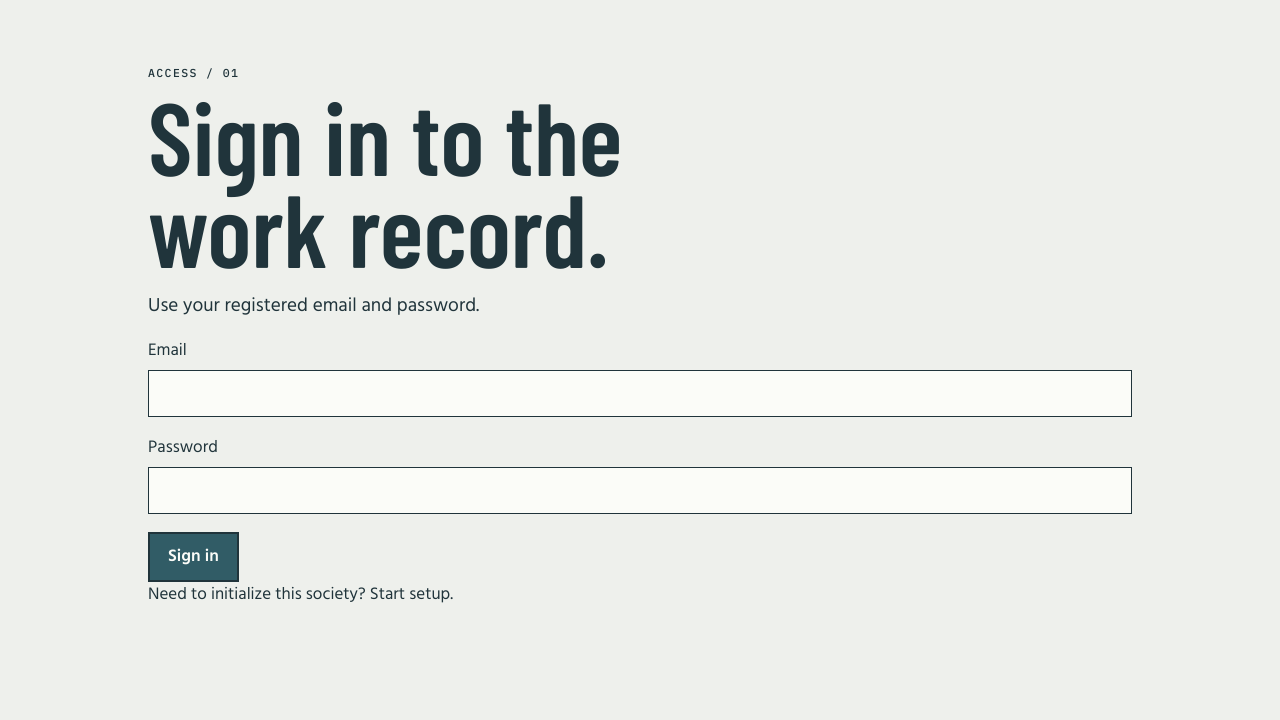
Test case: auth routes › maps login field errors and focuses first invalid field
Type "person@example.com" into the field labelled "Email" at (640, 394), box 148,370 -> 1132,417
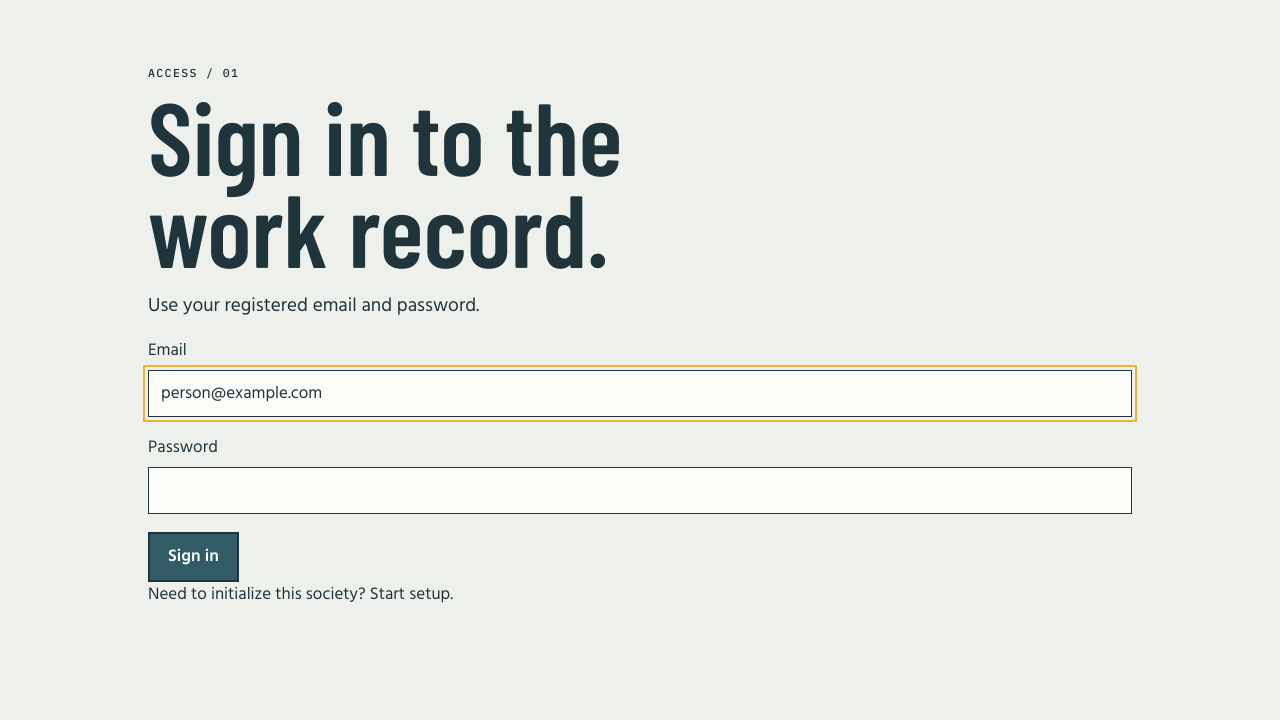
Type "password" into the password field labelled "Password" at (640, 491), box 148,467 -> 1132,514
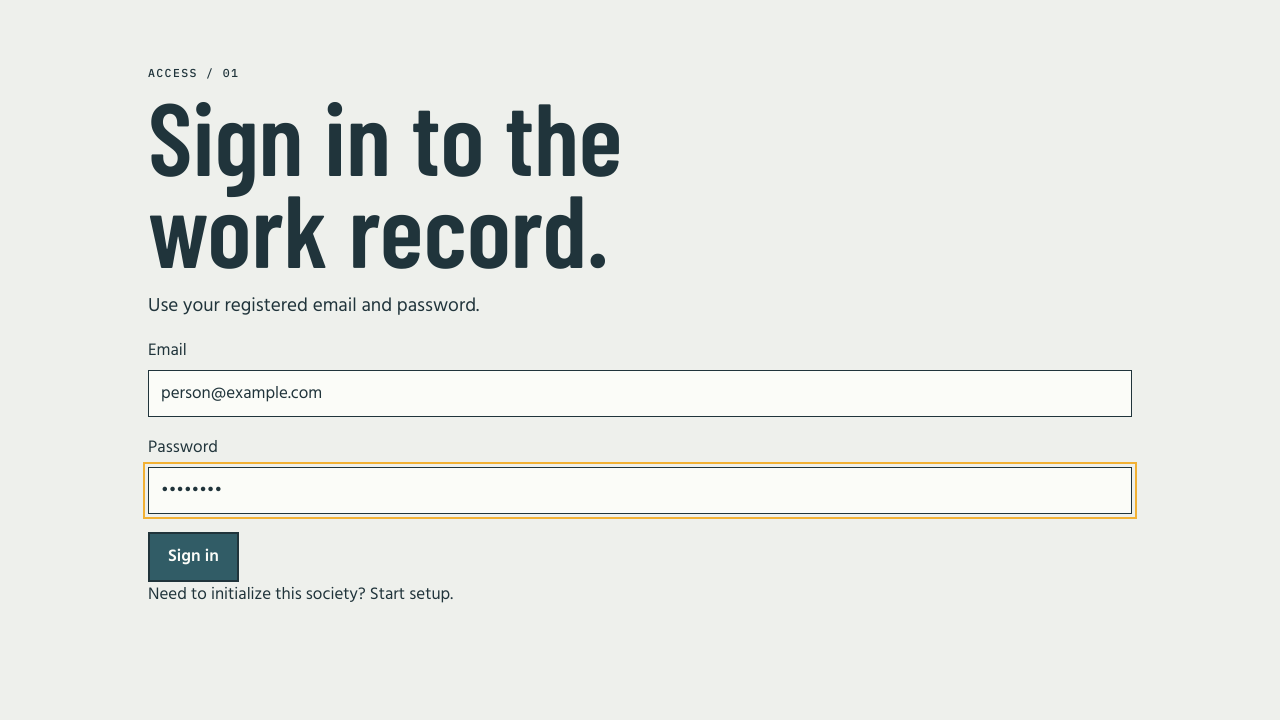
Click the button "Sign in" at (193, 557), box 148,532 -> 239,582
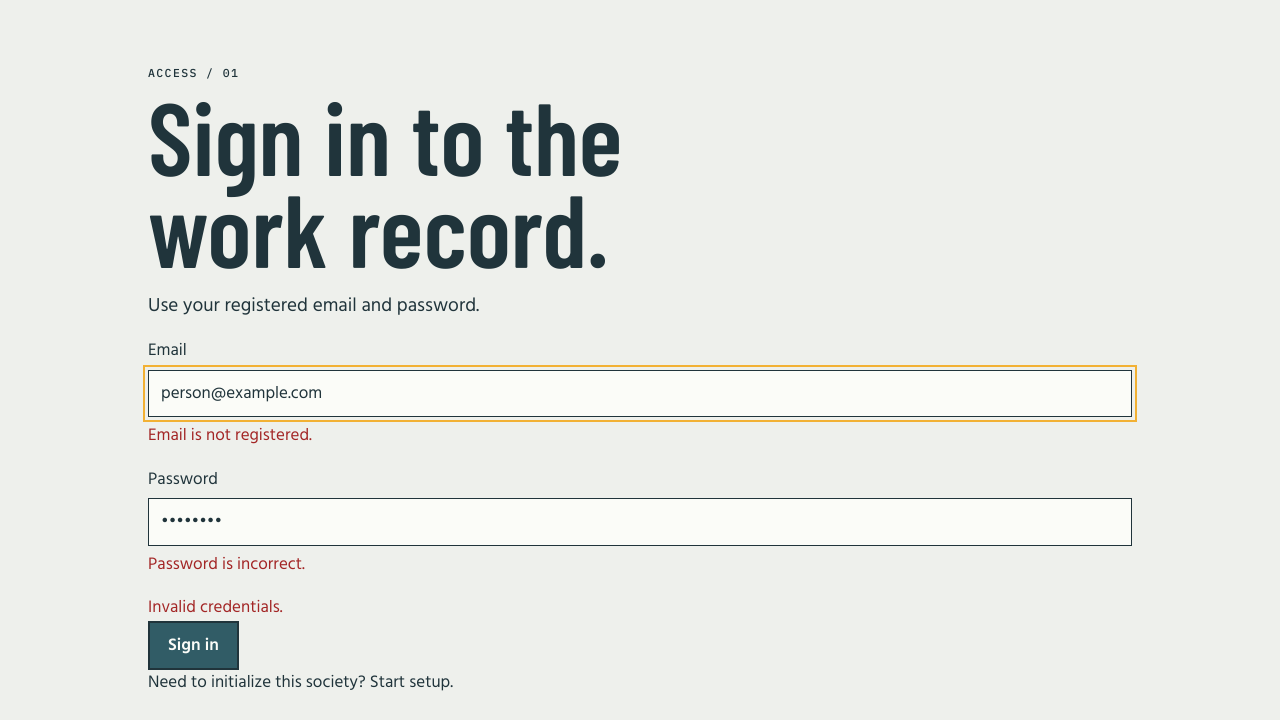
Result: the text "Email is not registered." is shown at 148,422 -> 312,449
